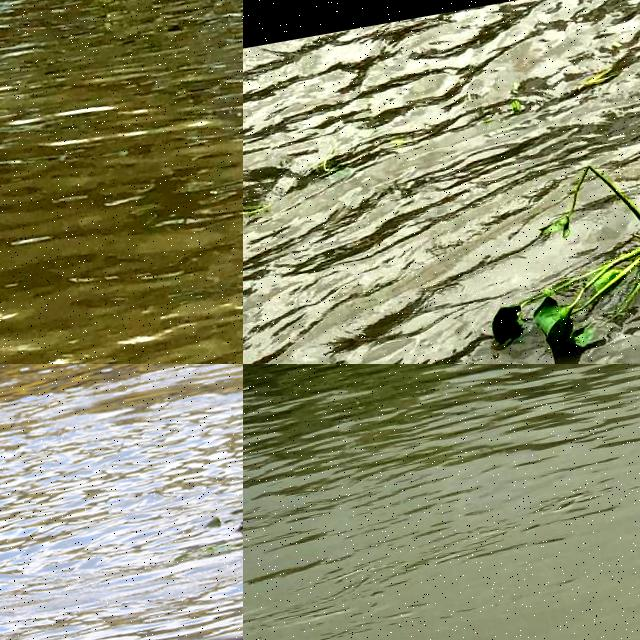water-hyacinth: (453, 141, 640, 365)
